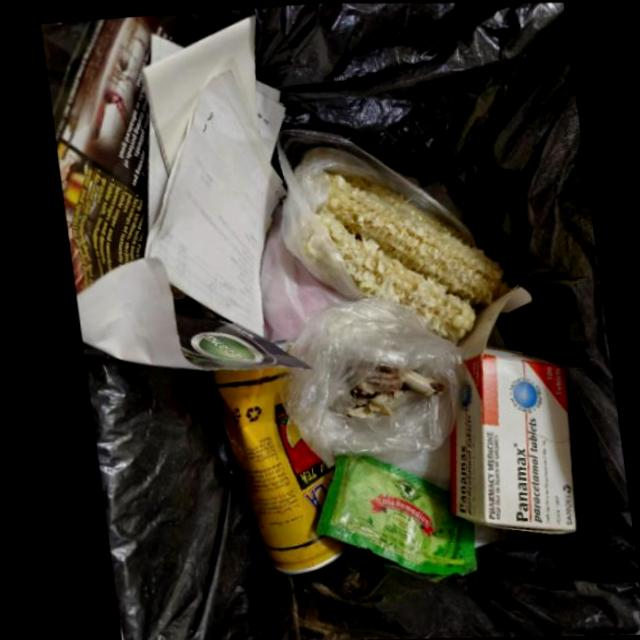carton: (445, 347, 573, 535)
giay: (50, 15, 305, 371)
goi_nhua_nho: (310, 451, 471, 581)
nhom: (208, 363, 341, 577)
thuc_an_thua: (314, 174, 506, 341), (343, 363, 439, 418)
tui_ni_long: (274, 128, 474, 302), (277, 296, 465, 466)
